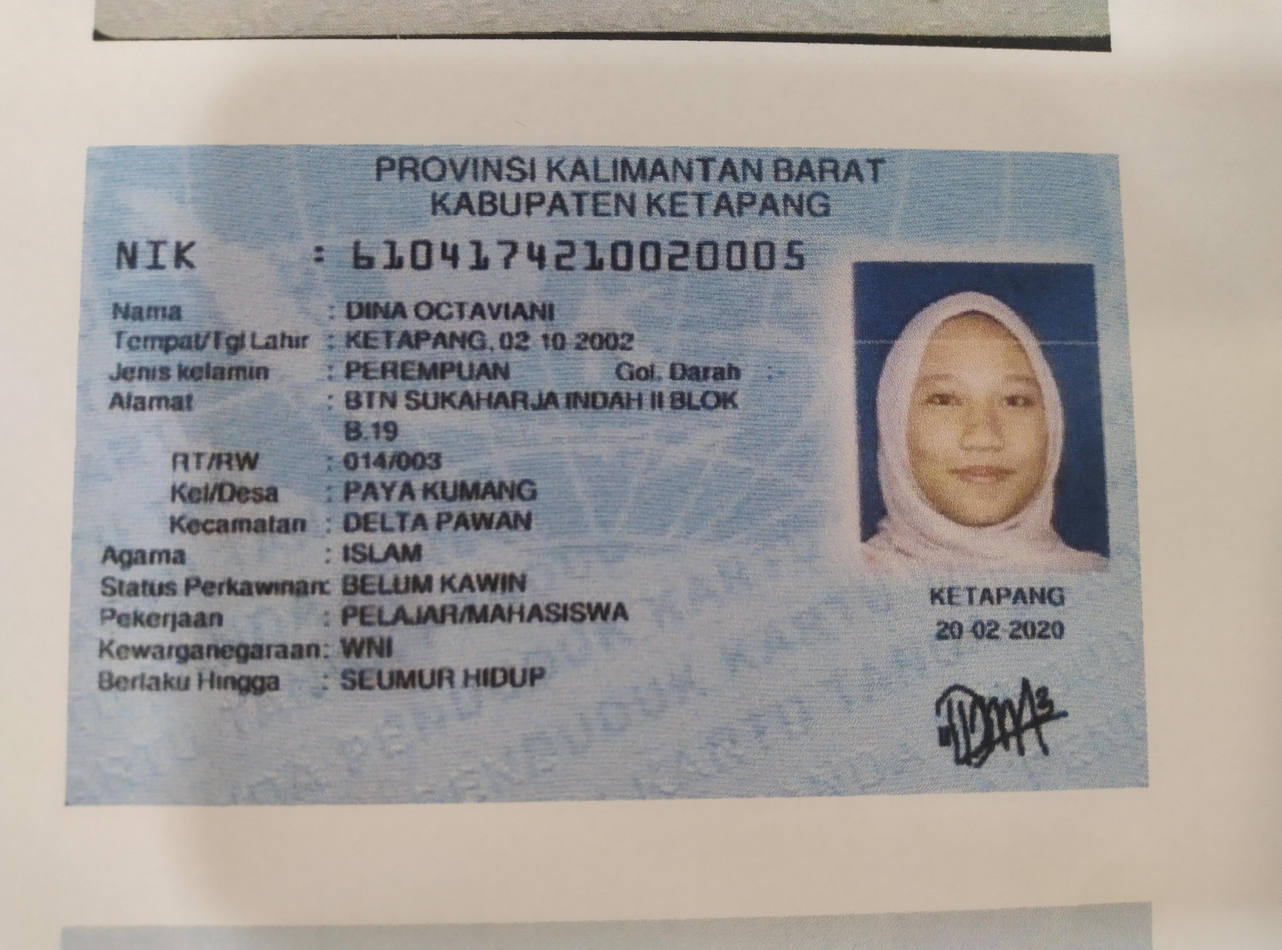ID-card: (64, 143, 1141, 803)
